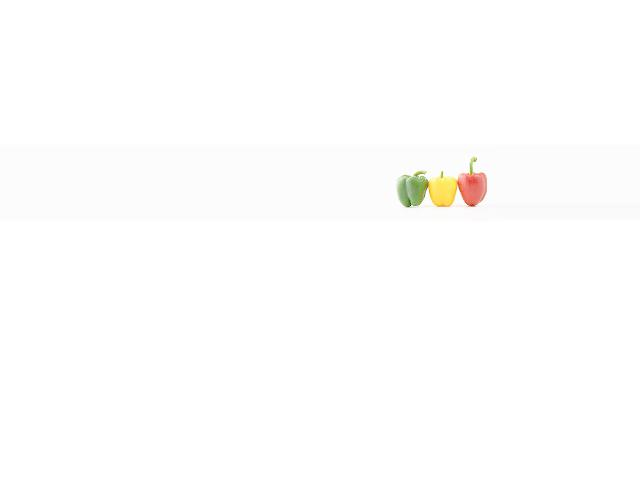bell_pepper: (454, 153, 495, 211)
